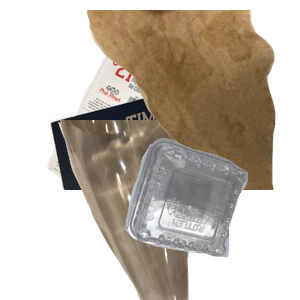glass: (56, 120, 241, 300)
paper: (45, 34, 230, 214)
plastic: (123, 136, 300, 300)
trash: (84, 10, 300, 190)
